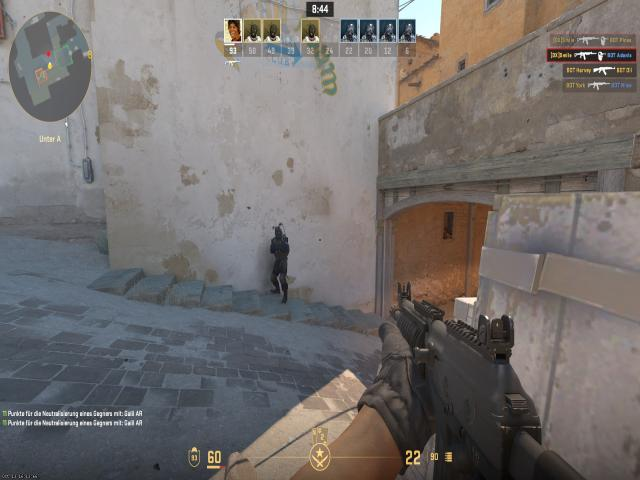CT: (271, 224, 288, 289)
CT-Head: (274, 227, 282, 239)
